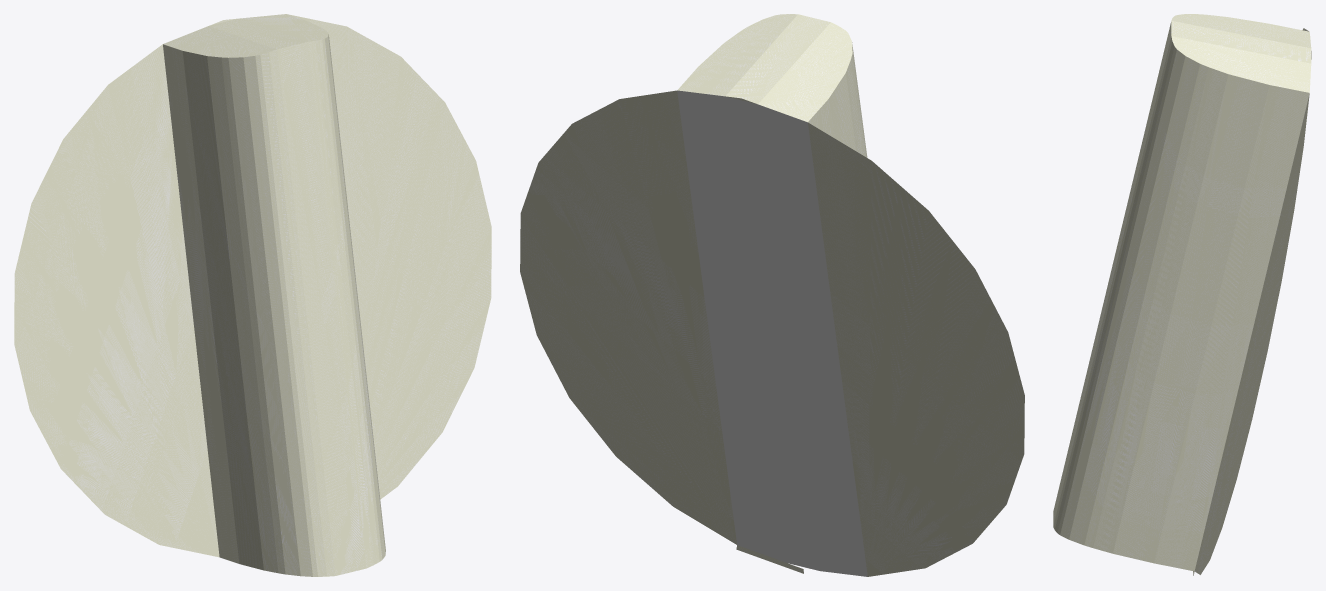
The model's file is original-37.obj.
3 renders of one model, left to right at view 1: azimuth 30°, elevation 25°; view 2: azimuth 150°, elevation 25°; view 3: azimuth 270°, elevation 25°, orthographic. The views are drawn at different scales.
Visible parts, largest first — view 1: mesh6/mesh6-geometry/material_1#mesh6-geometry; view 2: mesh6/mesh6-geometry/material_1#mesh6-geometry; view 3: mesh6/mesh6-geometry/material_1#mesh6-geometry.
Part boxes in pixels (left/top/right/bottom): mesh6/mesh6-geometry/material_1#mesh6-geometry: left=14, top=14, right=491, bottom=576; mesh6/mesh6-geometry/material_1#mesh6-geometry: left=520, top=14, right=1024, bottom=576; mesh6/mesh6-geometry/material_1#mesh6-geometry: left=1053, top=14, right=1311, bottom=575.
Size of the model in its own units: 0.0532 by 0.0552 by 0.0246.
